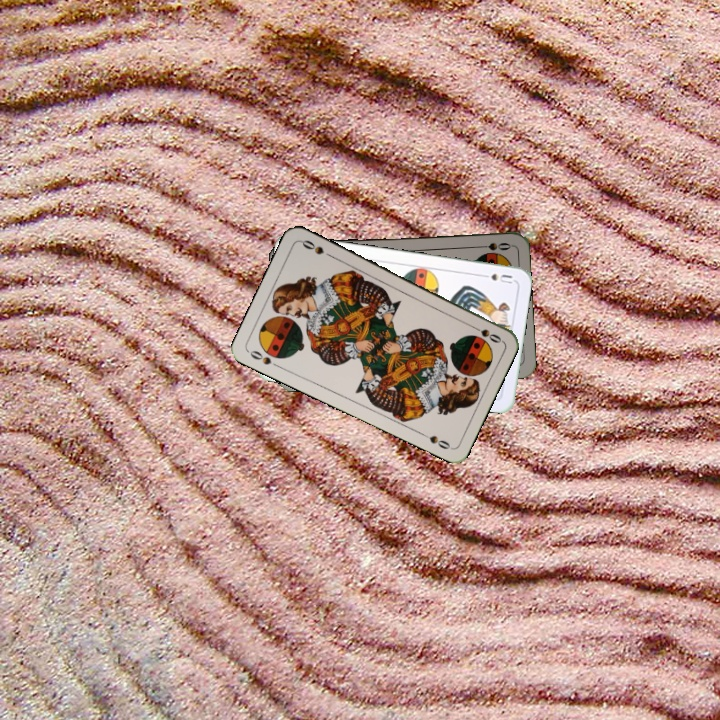SO: (466, 321, 504, 346), (246, 346, 283, 371), (472, 238, 513, 253)
SU: (476, 270, 515, 286)
